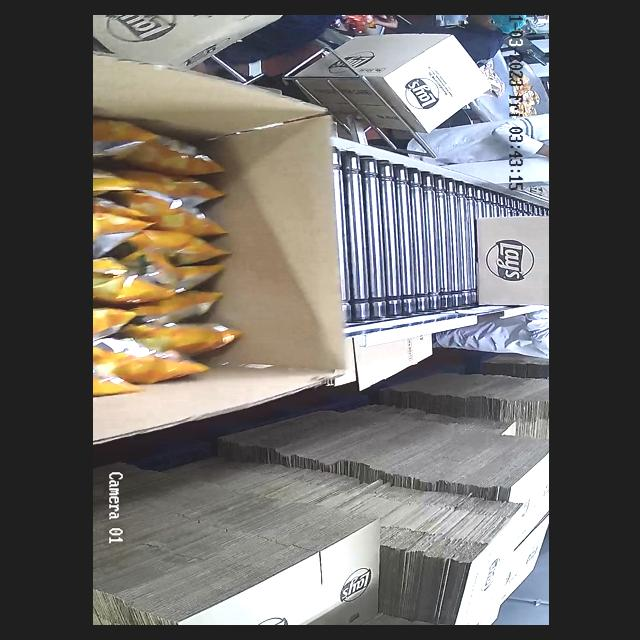cheese: (92, 143, 238, 380)
